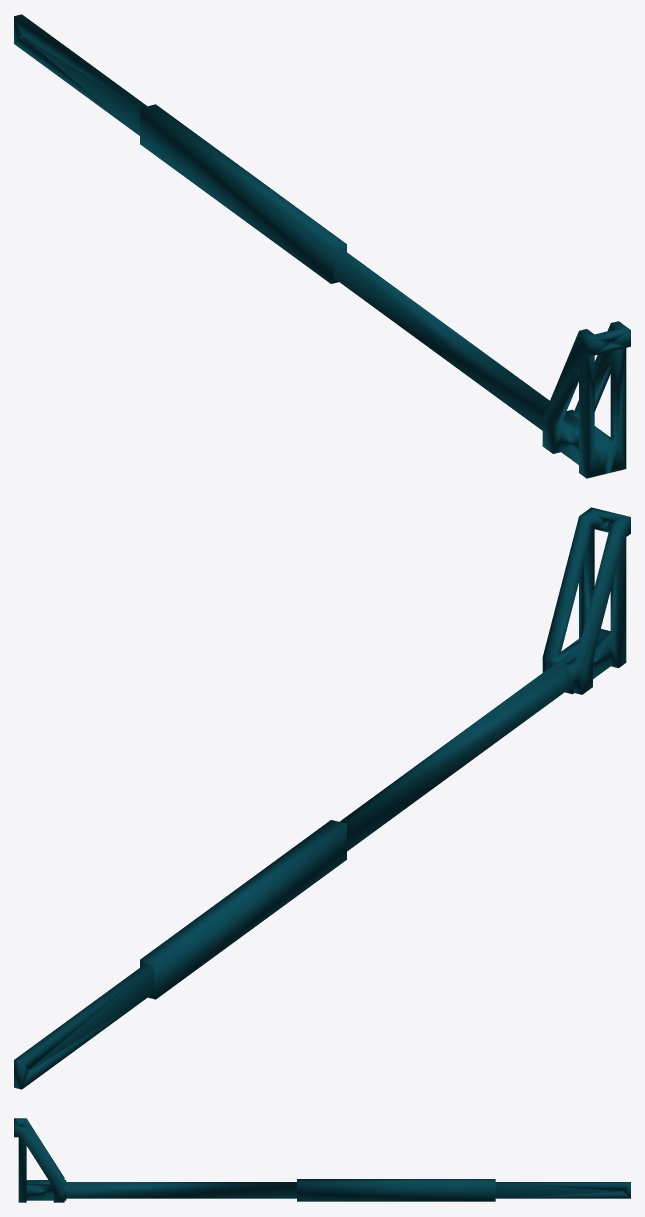
Rendered from arm_3.dae.
3 renders of one model, top to bottom at view 1: azimuth 30°, elevation 25°; view 2: azimuth 150°, elevation 25°; view 3: azimuth 270°, elevation 25°, orthographic. The views are drawn at different scales.
Parts seen in each view (by area): view 1: arm_2; view 2: arm_2; view 3: arm_2.
Boxes of the visible parts, x1,y1,x2,y2 form: arm_2: [14, 14, 630, 478]; arm_2: [14, 507, 630, 1089]; arm_2: [14, 1118, 630, 1202].
Size of the model in its own units: 0.03 by 0.776 by 0.1057.
